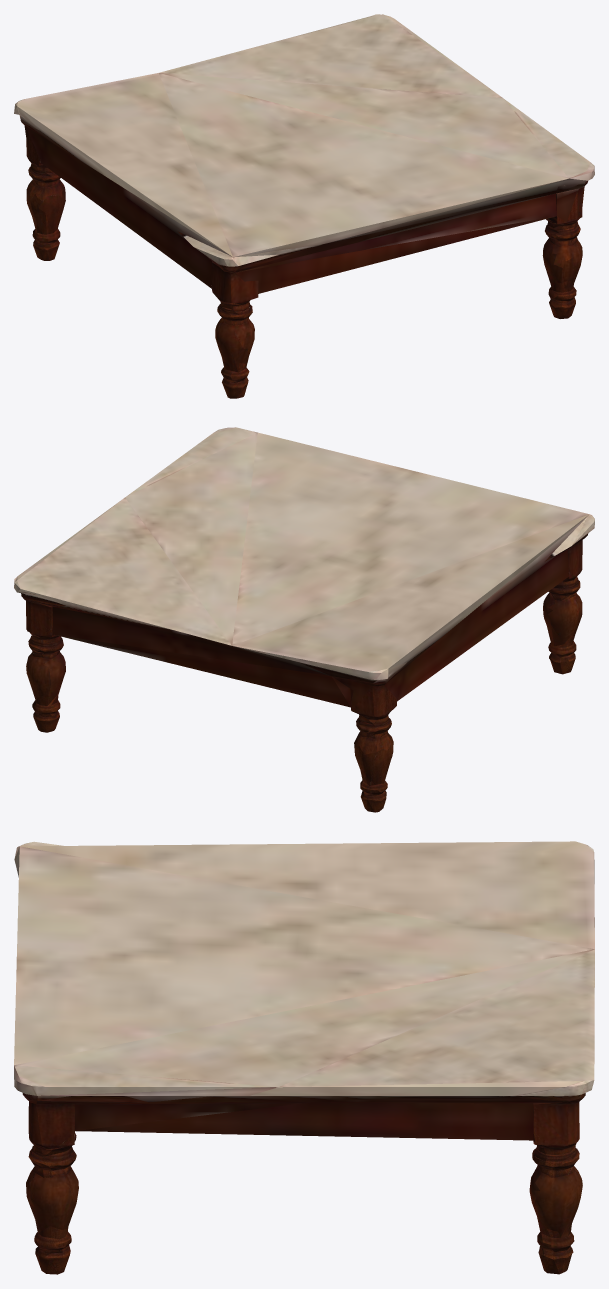
File: w3lowtable.glb
The picture shows the model from 3 angles, top to bottom: view 1: azimuth 30°, elevation 25°; view 2: azimuth 150°, elevation 25°; view 3: azimuth 270°, elevation 25°; orthographic projection. The views are drawn at different scales.
Visible parts, largest first — view 1: output_unwrapped; view 2: output_unwrapped; view 3: output_unwrapped.
Boxes of the visible parts, box(x1,y1,x2,y2) form: output_unwrapped: box(14, 14, 594, 398); output_unwrapped: box(14, 427, 594, 812); output_unwrapped: box(14, 841, 594, 1274).
Bounding box in the file's own units: 1 × 0.3822 × 0.9989.
Materials: 1 (1 with a texture image).
